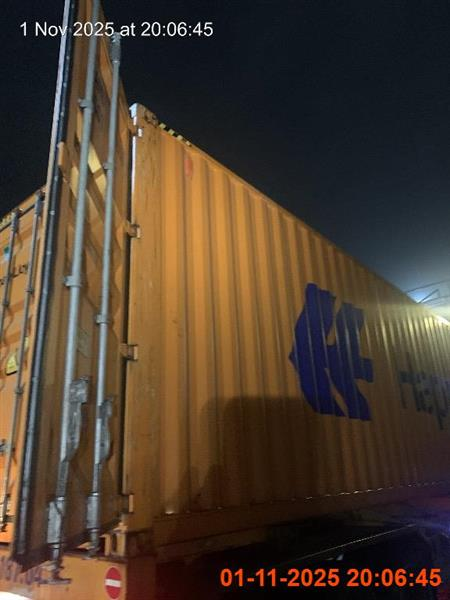broken: (0, 2, 449, 599)
